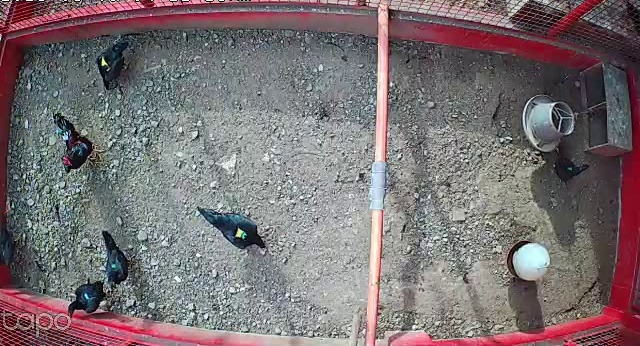Chicken: (193, 203, 270, 254), (96, 37, 135, 98), (100, 226, 134, 290), (63, 279, 109, 321), (1, 227, 29, 276), (552, 157, 594, 185)
Rooster: (49, 111, 108, 174)
Saddle_Color_Blue: (84, 291, 91, 301)
Saddle_Color_Yellow: (99, 58, 110, 68)
Saddle_Color_YellowGreen: (233, 225, 249, 239)
